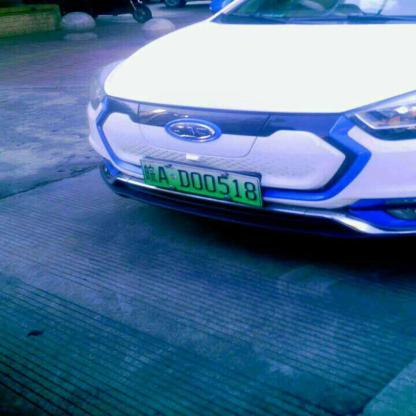lp: (140, 161, 262, 205)
